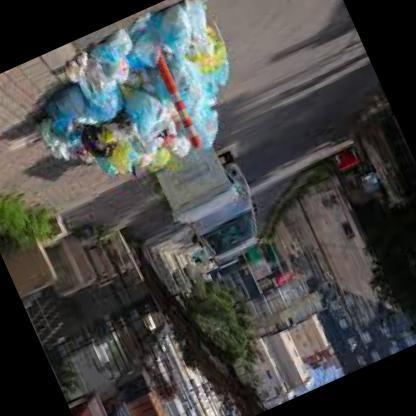Garbage: (12, 23, 192, 204), (143, 0, 263, 152)
